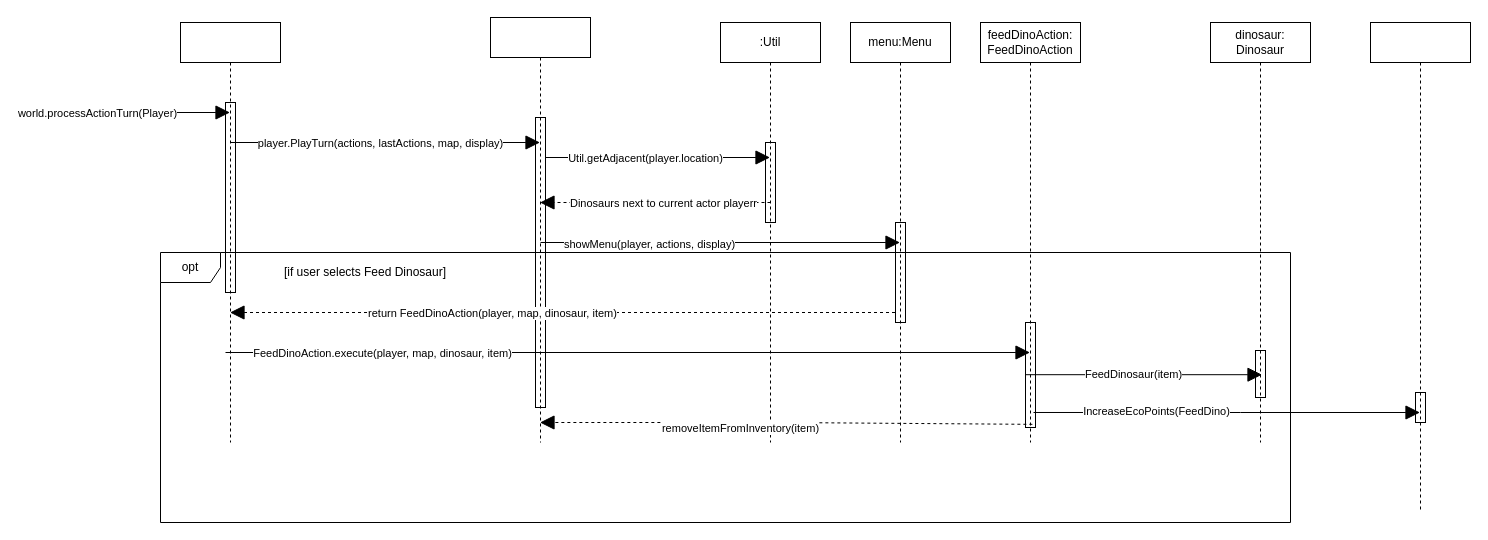
The diagram is 1488 pixels wide and 540 high, and some of its shapes have lost their labels. Here are the shapes that lost their labels. From the top down, the box of each, then its label:
(180, 22, 280, 442): world:World
(490, 16, 590, 442): player:Player
(1370, 22, 1470, 512): ecoPoints: EcoPoints
